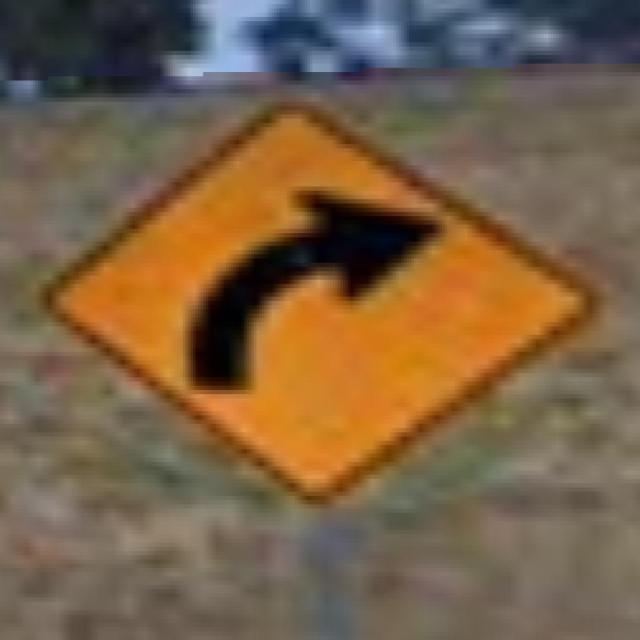Tikungan Ke Kanan: (33, 68, 597, 513)
